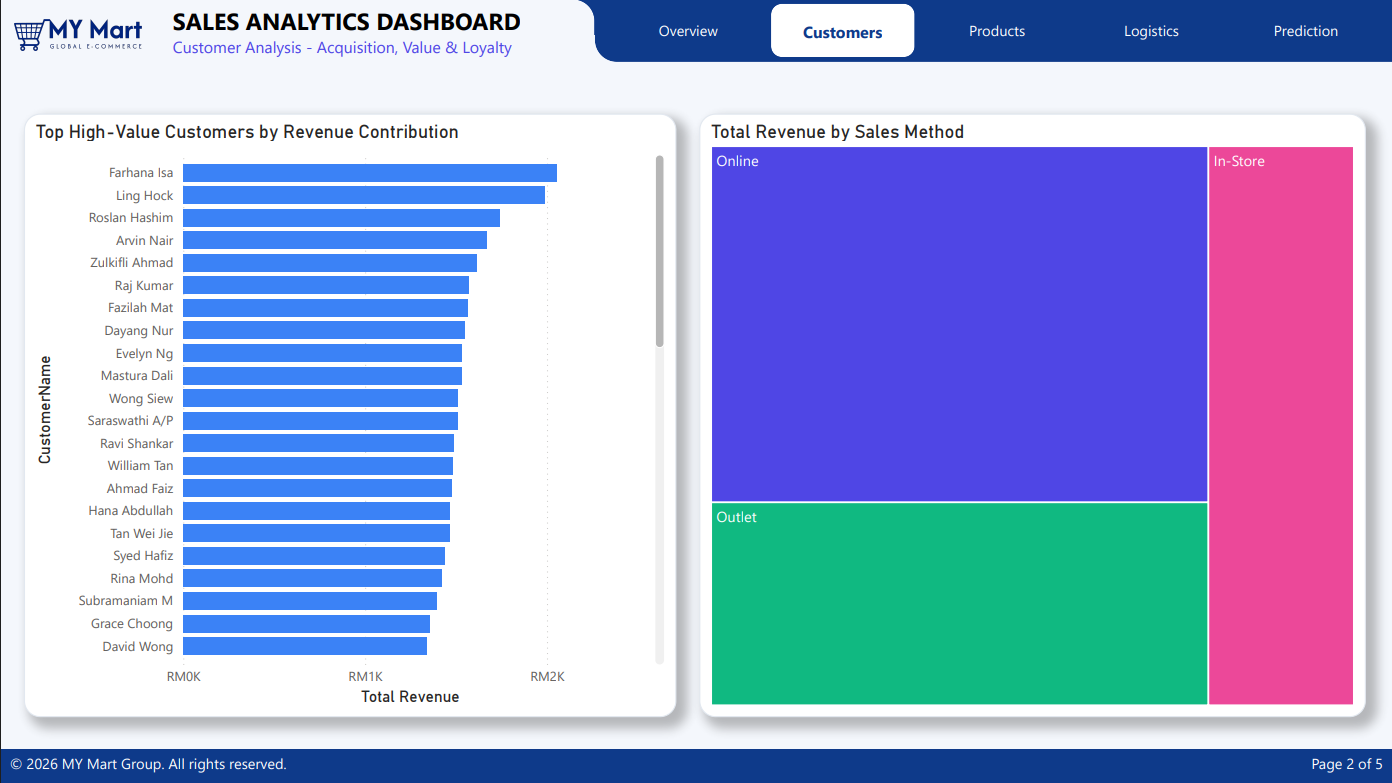

This screenshot's page, from the dashboard's own definition file:
{"tool":"powerbi","page":{"name":"Customers","canvas":[1280,720],"ordinal":1},"visuals":[{"type":"clusteredBarChart","title":"Top High-Value Customers by Revenue Contribution","fields":{"Category":["MY_Mart_Sales_Data.CustomerName"],"Y":["MY_Mart_Sales_Data.Total Revenue"]},"box":[21.7,105,599.6,555],"z":0},{"type":"treemap","title":"Total Revenue by Sales Method","fields":{"Group":["MY_Mart_Sales_Data.SalesMethod"],"Values":["MY_Mart_Sales_Data.Total Revenue"]},"box":[643,105,612.9,555],"z":1000},{"type":"shape","title":"NaviTop3","box":[0,0,567.4,33],"z":2000},{"type":"shape","title":"NaviTop2","box":[546.6,0,733.7,57.5],"z":3000},{"type":"shape","title":"NaviTop1","box":[0,0,546.6,56.3],"z":4000},{"type":"shape","box":[0,689.7,1280.3,30.6],"z":5000},{"type":"textbox","box":[154.4,0,392.1,65.1],"z":6000},{"type":"pageNavigator","box":[567,0,704.6,57.9],"z":7000},{"type":"image","box":[13.3,0,117,65.1],"z":8000},{"type":"textbox","box":[3.7,689.4,639.5,30.6],"z":9000},{"type":"textbox","box":[635.9,689.4,640.8,30.6],"z":10000}]}

Visuals, with their boxes in screenshot pixels (x1, y1, x2, y2), scaled from the page's 1280x720 canvas onto the 1392x783 screenshot:
"Top High-Value Customers by Revenue Contribution" clusteredBarChart: x1=24, y1=114, x2=676, y2=718
"Total Revenue by Sales Method" treemap: x1=699, y1=114, x2=1366, y2=718
"NaviTop3" shape: x1=0, y1=0, x2=617, y2=36
"NaviTop2" shape: x1=594, y1=0, x2=1391, y2=63
"NaviTop1" shape: x1=0, y1=0, x2=594, y2=61
shape: x1=0, y1=750, x2=1391, y2=782
textbox: x1=168, y1=0, x2=594, y2=71
pageNavigator: x1=617, y1=0, x2=1383, y2=63
image: x1=14, y1=0, x2=142, y2=71
textbox: x1=4, y1=750, x2=699, y2=782
textbox: x1=692, y1=750, x2=1388, y2=782
